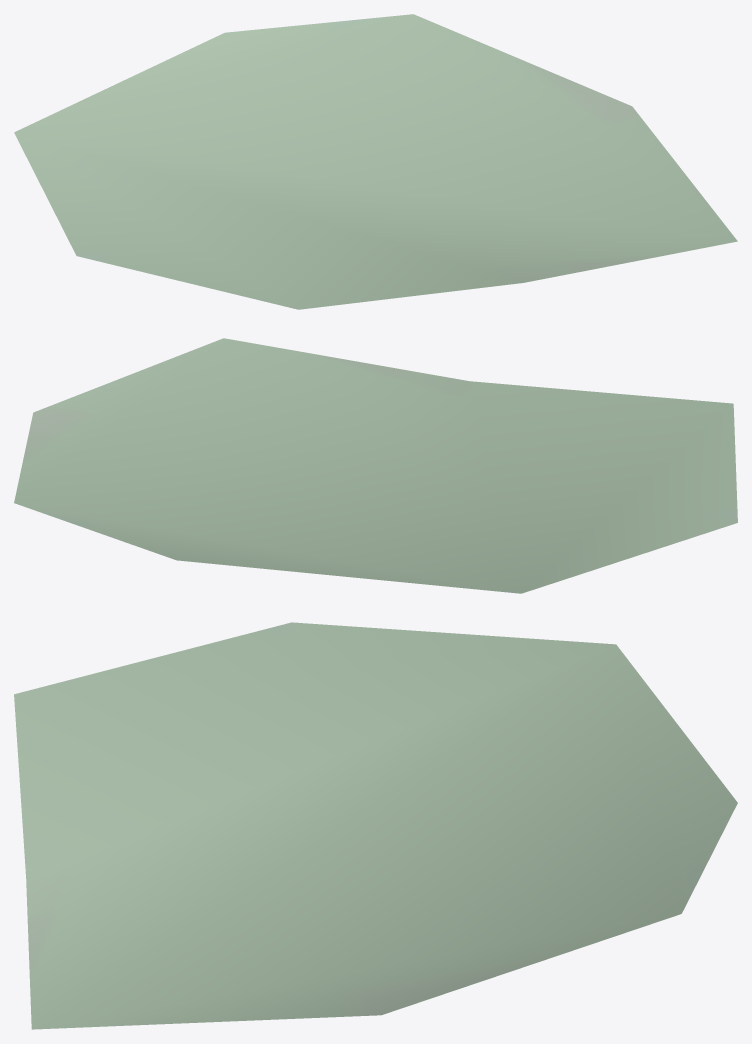
Rendered from TROLLHOLE02_HOLECAP70.fbx.
3 views of the same model, one above another, from view 1: azimuth 30°, elevation 25°; view 2: azimuth 150°, elevation 25°; view 3: azimuth 270°, elevation 25° (orthographic). The views are drawn at different scales.
Parts seen in each view (by area): view 1: TROLLHOLE02_HOLECAP70; view 2: TROLLHOLE02_HOLECAP70; view 3: TROLLHOLE02_HOLECAP70.
Boxes of the visible parts, <box> form: TROLLHOLE02_HOLECAP70: <box>14,14,737,309</box>; TROLLHOLE02_HOLECAP70: <box>14,338,737,593</box>; TROLLHOLE02_HOLECAP70: <box>14,622,737,1029</box>.
Size of the model in its own units: 18102 by 1847 by 15090.
1 material, 1 textured.
